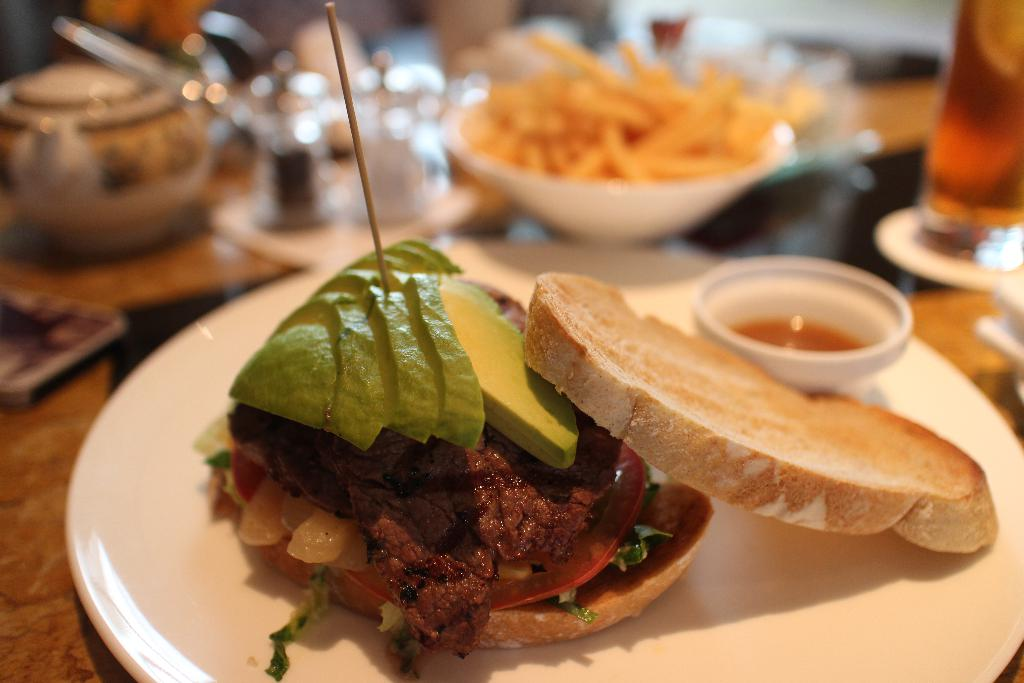French fries: (420, 32, 832, 219)
